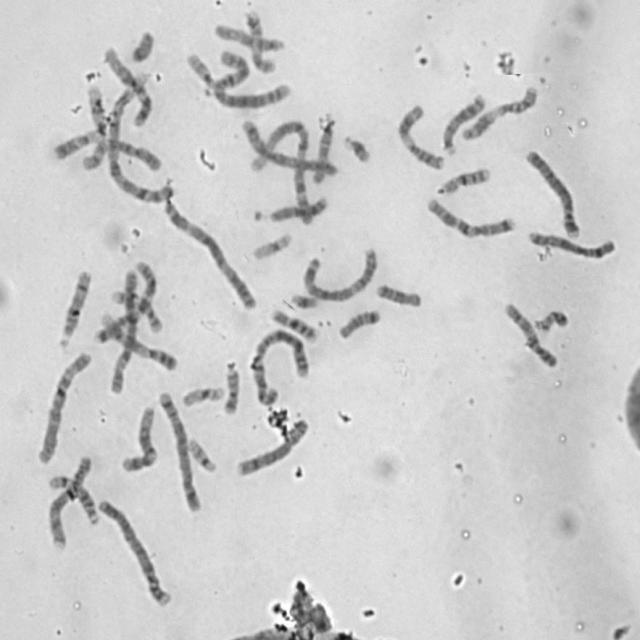A1: (101, 68, 176, 206), (237, 116, 317, 224)
A2: (204, 44, 294, 109), (246, 324, 311, 408)
A3: (159, 195, 259, 312), (298, 243, 379, 303)
B4: (94, 493, 174, 610), (522, 144, 584, 241)
B5: (240, 115, 339, 181), (154, 385, 204, 514)
C10: (500, 298, 560, 370), (80, 136, 164, 173)
C11: (457, 81, 540, 142), (394, 99, 447, 172)
C12: (100, 42, 154, 128), (118, 401, 160, 474)
C6: (34, 347, 94, 465), (108, 264, 142, 396)
C7: (90, 257, 158, 346), (423, 192, 518, 240)
C8: (232, 414, 312, 479), (524, 226, 618, 261)
C9: (96, 309, 179, 373), (48, 82, 108, 162)
D13: (439, 90, 487, 156), (261, 192, 329, 224)
D14: (54, 264, 94, 348), (46, 470, 101, 527)
D15: (210, 19, 288, 52), (310, 111, 338, 185)
E16: (266, 305, 320, 343), (435, 162, 493, 196)
E17: (106, 285, 164, 334), (242, 6, 278, 74)
E18: (335, 304, 383, 341), (373, 279, 424, 309)
F19: (250, 228, 294, 262), (178, 382, 227, 408)
F20: (530, 304, 572, 334), (220, 359, 242, 416)
G21: (340, 130, 373, 164), (288, 289, 320, 310)
G22: (183, 49, 216, 92), (185, 433, 219, 474)
X: (45, 450, 94, 551), (524, 226, 618, 261)
Y: (127, 25, 156, 64)
